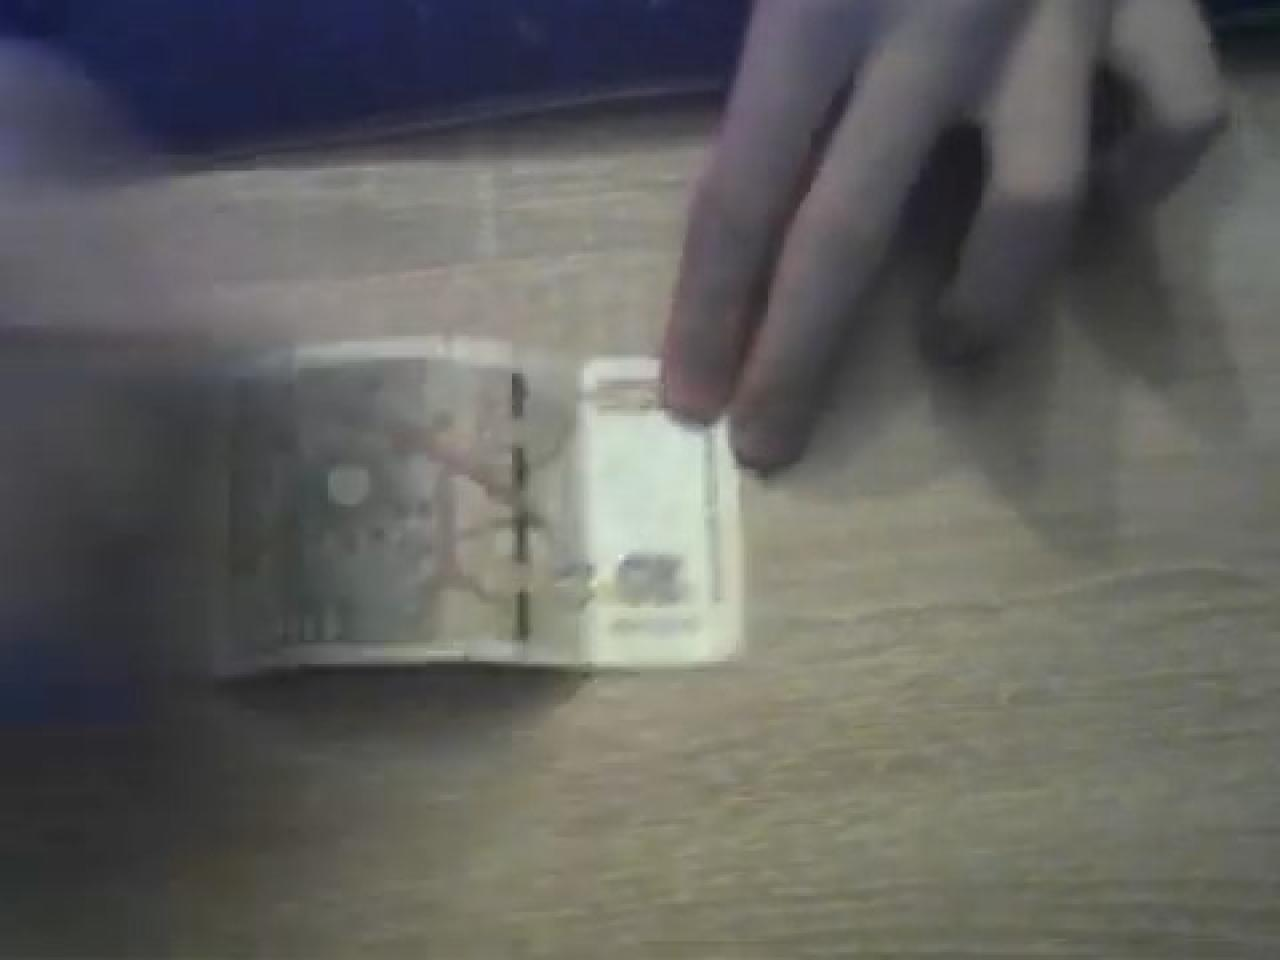10leva: (211, 334, 747, 680)
